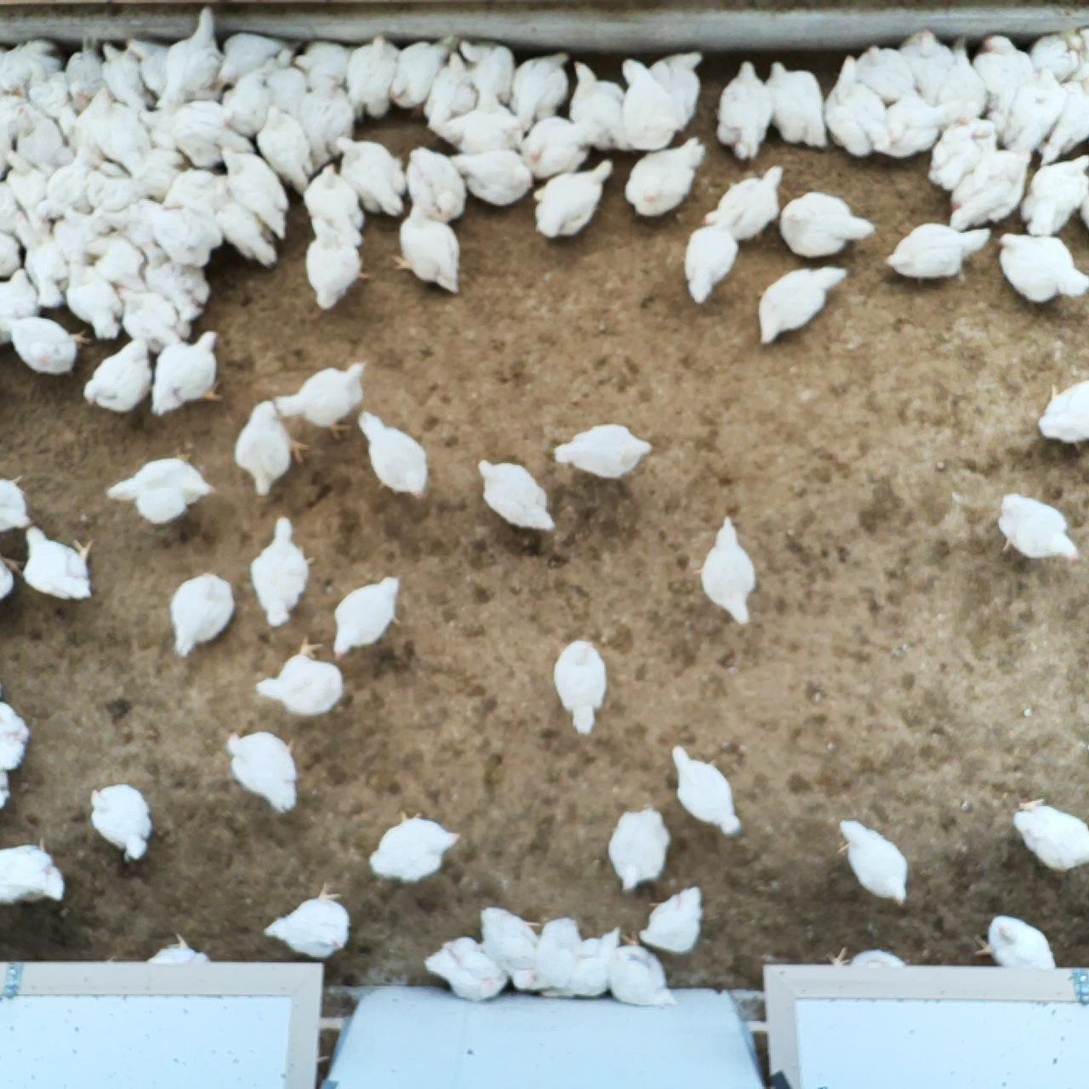chicken: (751, 261, 855, 351), (152, 5, 227, 115), (770, 187, 879, 262), (257, 635, 355, 716), (105, 451, 215, 523), (251, 512, 317, 631), (272, 360, 370, 440), (946, 147, 1034, 233), (621, 135, 710, 220), (697, 513, 761, 630), (993, 227, 1089, 305), (551, 419, 660, 487), (222, 727, 304, 817), (365, 811, 466, 884), (700, 162, 790, 243), (821, 54, 891, 158), (993, 489, 1085, 567), (145, 328, 225, 416), (261, 884, 352, 961), (886, 219, 995, 283), (530, 161, 615, 243), (216, 141, 290, 235), (356, 408, 429, 503), (235, 397, 305, 496), (667, 743, 741, 836), (836, 816, 914, 904), (304, 210, 372, 310), (474, 456, 561, 533), (15, 522, 96, 604), (86, 84, 154, 180), (713, 59, 777, 161), (392, 201, 461, 295), (331, 135, 408, 219), (758, 59, 829, 150), (330, 573, 403, 661), (923, 116, 1005, 194), (81, 332, 156, 416), (566, 57, 630, 155), (552, 635, 613, 737), (423, 935, 513, 1004), (1008, 798, 1089, 874), (999, 64, 1063, 158), (442, 146, 540, 207), (150, 100, 233, 172), (85, 779, 155, 864), (680, 210, 740, 309), (1020, 151, 1089, 237), (0, 314, 94, 377), (617, 58, 680, 152), (170, 567, 235, 658), (606, 802, 669, 895), (478, 905, 544, 993), (968, 31, 1034, 119), (512, 118, 598, 184), (344, 35, 406, 126), (112, 279, 189, 352), (147, 200, 227, 270), (439, 89, 524, 154), (256, 105, 316, 196), (606, 932, 675, 1011), (20, 57, 79, 148), (208, 188, 275, 268), (557, 927, 631, 999), (296, 74, 349, 174), (303, 163, 366, 246), (404, 144, 470, 223), (1033, 78, 1089, 171), (642, 52, 703, 137), (507, 52, 571, 133), (632, 886, 707, 954), (973, 909, 1058, 969), (0, 149, 57, 237), (82, 170, 160, 234), (59, 259, 119, 342), (22, 215, 74, 310), (210, 28, 288, 91), (139, 250, 209, 320), (421, 49, 478, 133), (79, 231, 152, 296), (393, 35, 453, 114), (934, 35, 986, 126), (13, 94, 75, 170), (35, 145, 96, 219), (0, 842, 67, 909), (877, 90, 942, 159), (897, 30, 957, 104), (0, 36, 69, 98), (456, 37, 515, 108), (853, 43, 916, 108), (1033, 376, 1089, 449), (161, 165, 231, 223), (63, 33, 110, 117), (51, 201, 105, 274), (0, 264, 47, 347), (261, 40, 312, 116), (121, 33, 177, 101), (97, 197, 166, 252), (66, 85, 111, 169), (98, 40, 148, 115), (292, 32, 352, 94), (125, 142, 188, 200), (221, 67, 271, 139), (542, 917, 587, 997), (136, 929, 215, 971), (1024, 29, 1081, 84), (0, 88, 35, 176), (0, 175, 38, 248), (0, 696, 31, 768), (829, 939, 907, 966), (0, 469, 30, 536), (0, 552, 25, 603), (0, 227, 25, 274)
